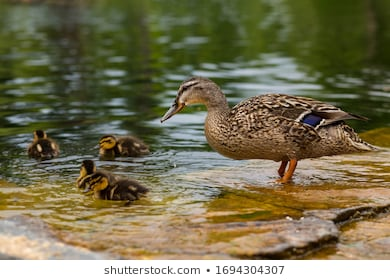duck: (158, 70, 377, 192), (89, 132, 163, 162), (23, 130, 68, 165)
